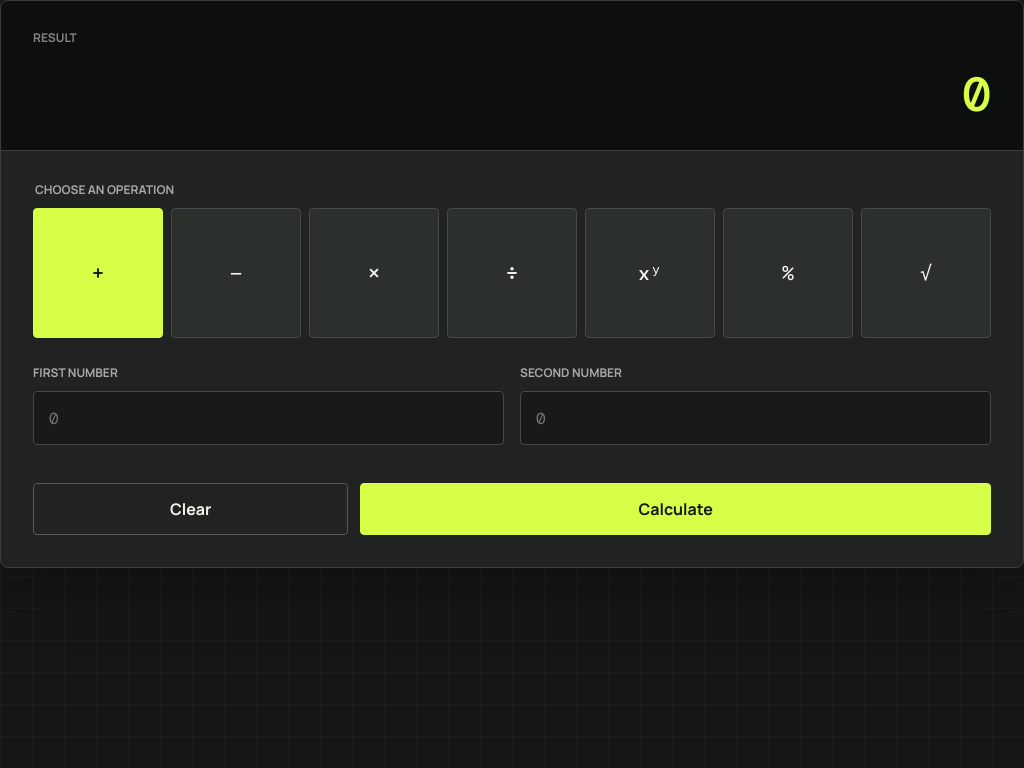
Test: Calculator › keeps the calculator cleared when an in-flight request resolves
Type "35" into the number field labelled "First number" at (268, 418), box [33, 391, 504, 445]
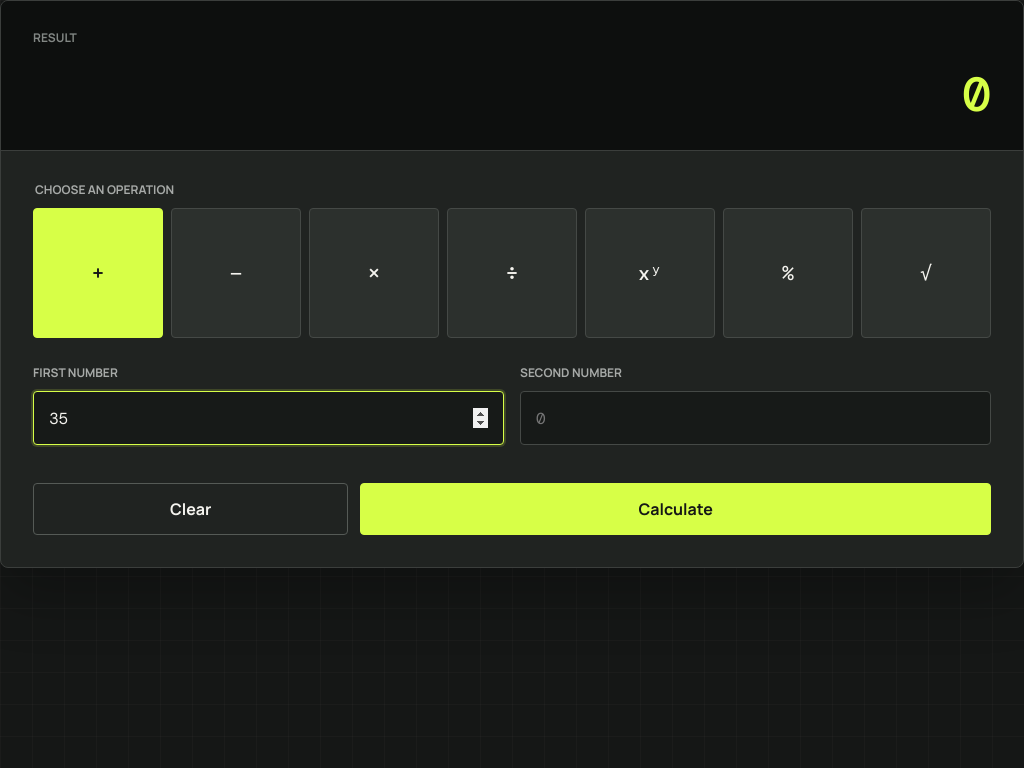
Type "7" into the number field labelled "Second number" at (756, 418), box [520, 391, 991, 445]
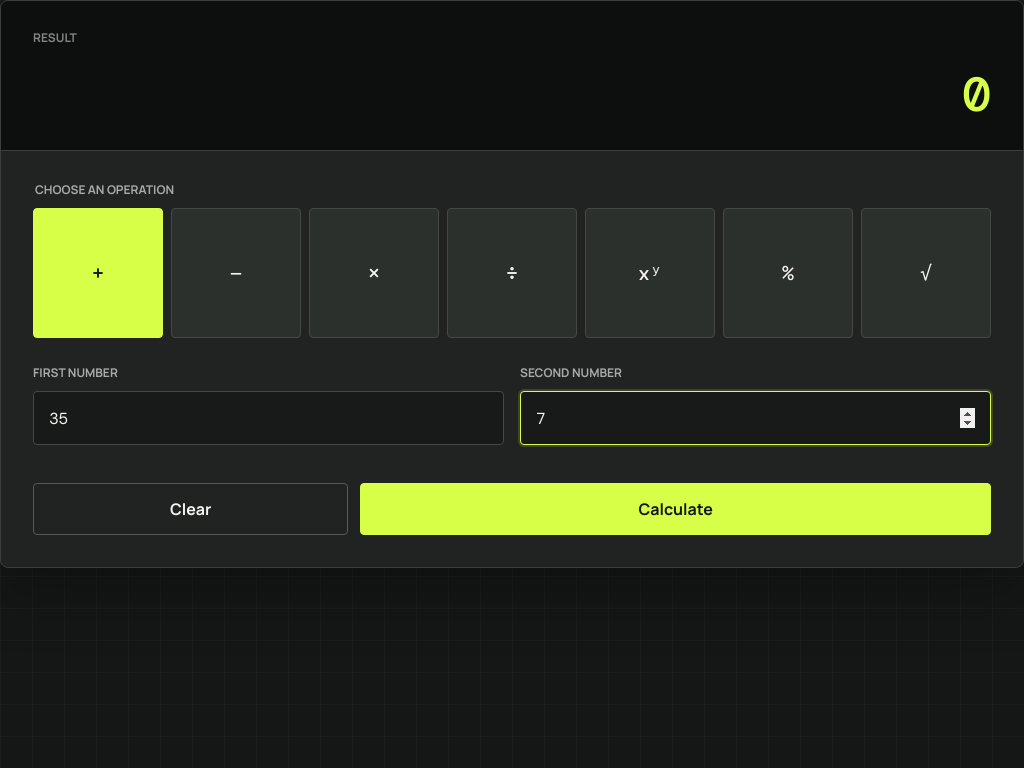
Click the button "Calculate" at (676, 509), box [360, 483, 991, 535]
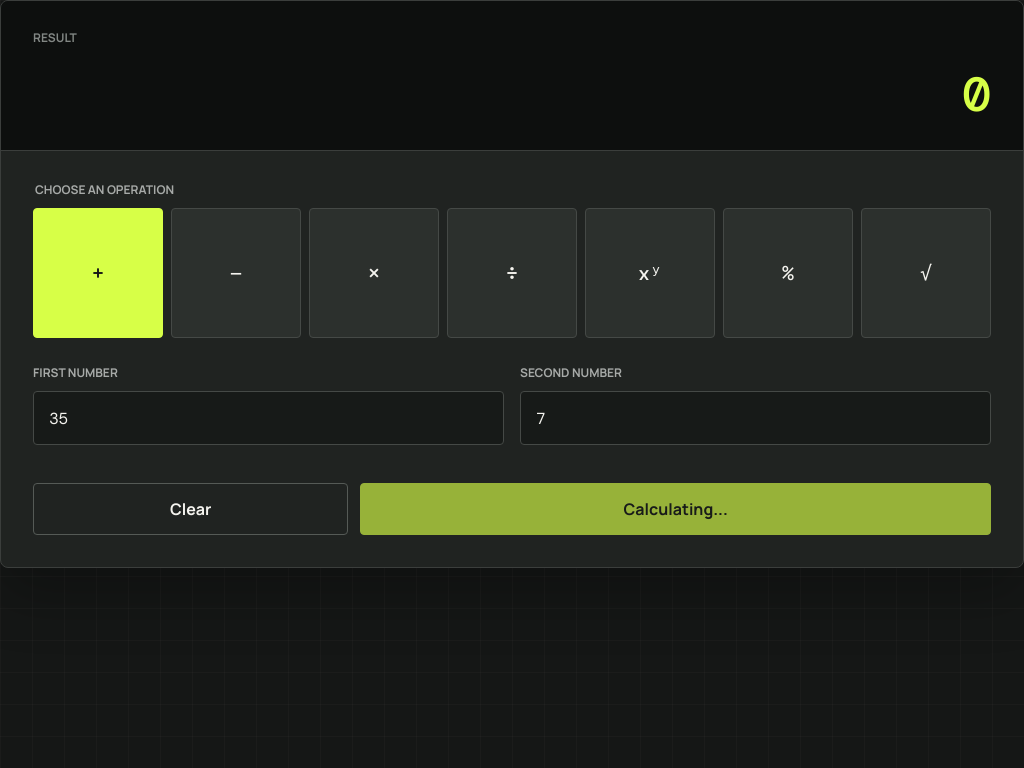
Click the button "Clear" at (191, 509), box [33, 483, 348, 535]
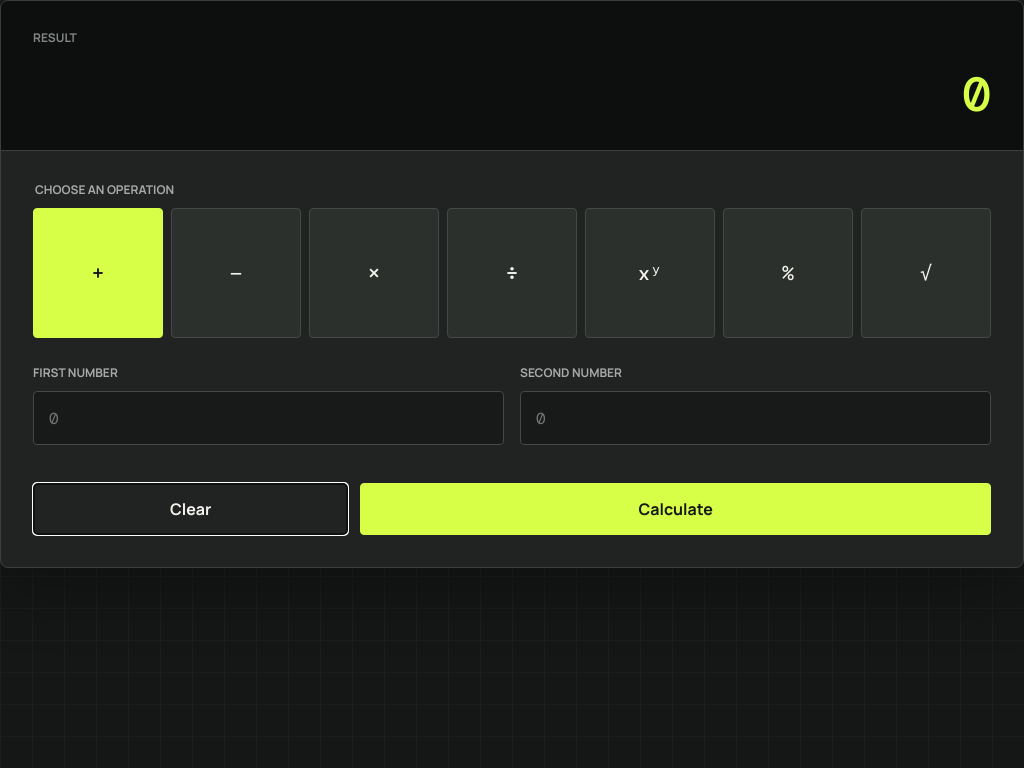
Expected: the number field labelled "First number" is not empty, [33, 391, 504, 445]
Expected: the number field labelled "Second number" is not empty, [520, 391, 991, 445]
Expected: the button "Calculate" is enabled, [360, 483, 991, 535]
